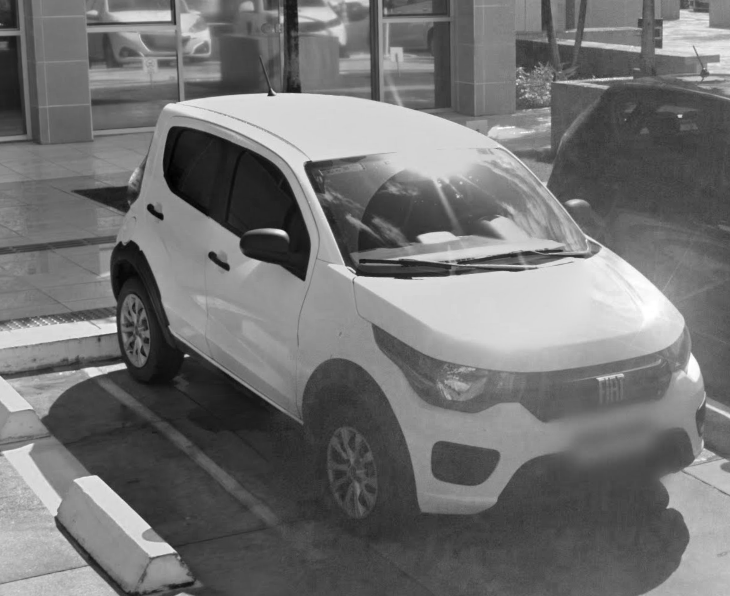car: (108, 88, 708, 546)
